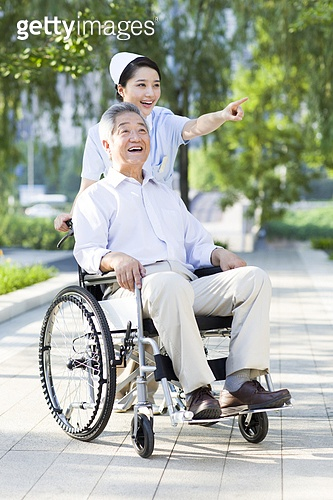wheelchair: (38, 101, 292, 459)
